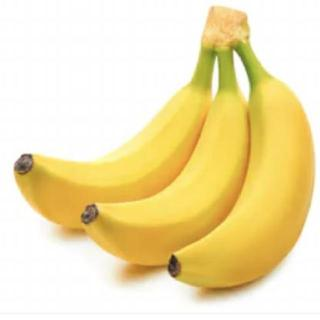banana: (80, 86, 258, 270), (166, 79, 316, 292), (10, 83, 218, 234)
